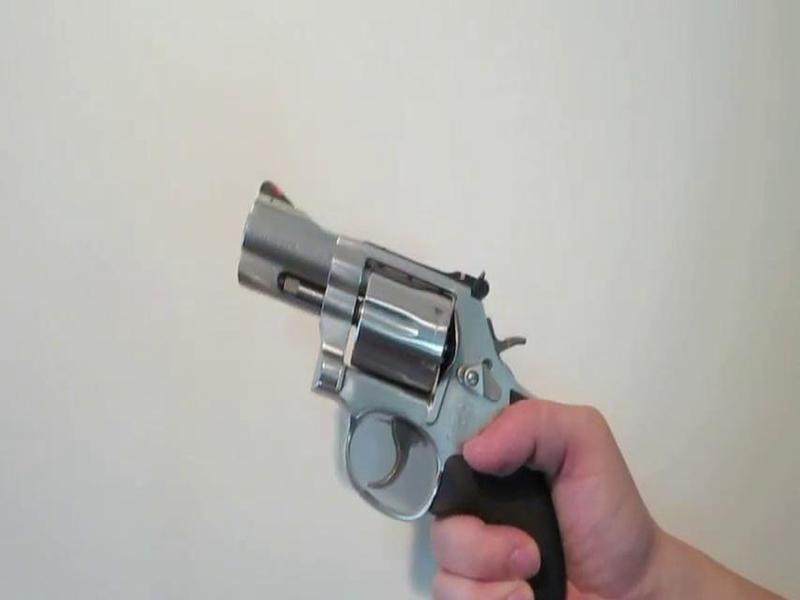Revolver: (219, 162, 591, 600)
